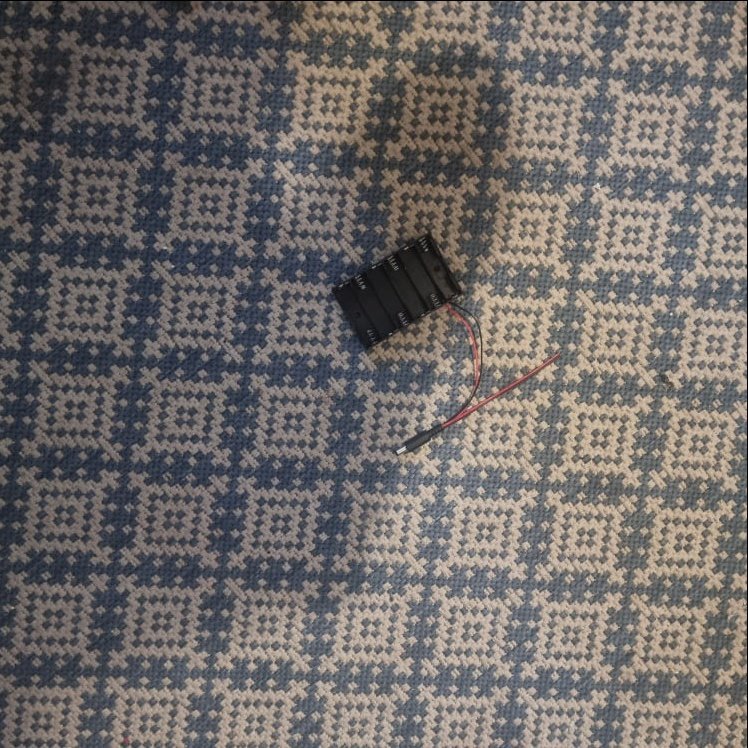BATTERY BOX: (331, 230, 464, 348)
